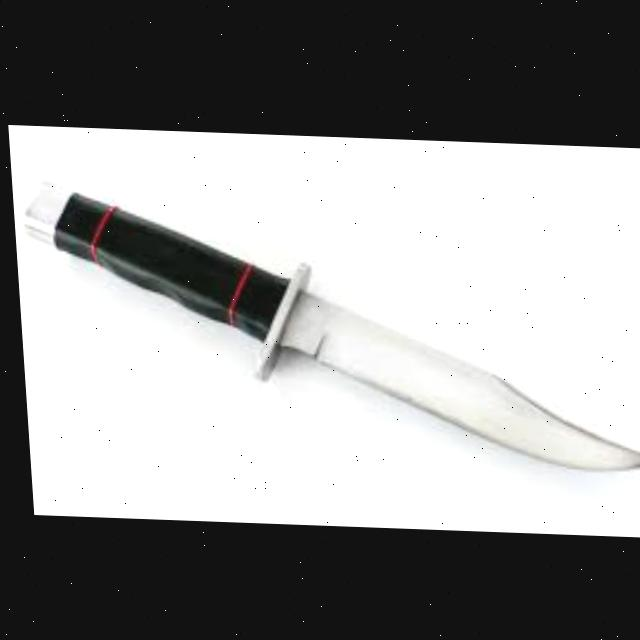knife: (19, 173, 640, 468)
